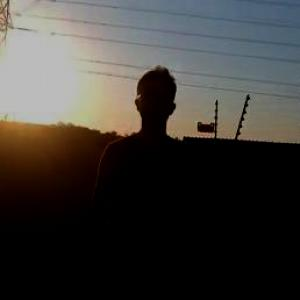follow: (86, 57, 204, 299)
